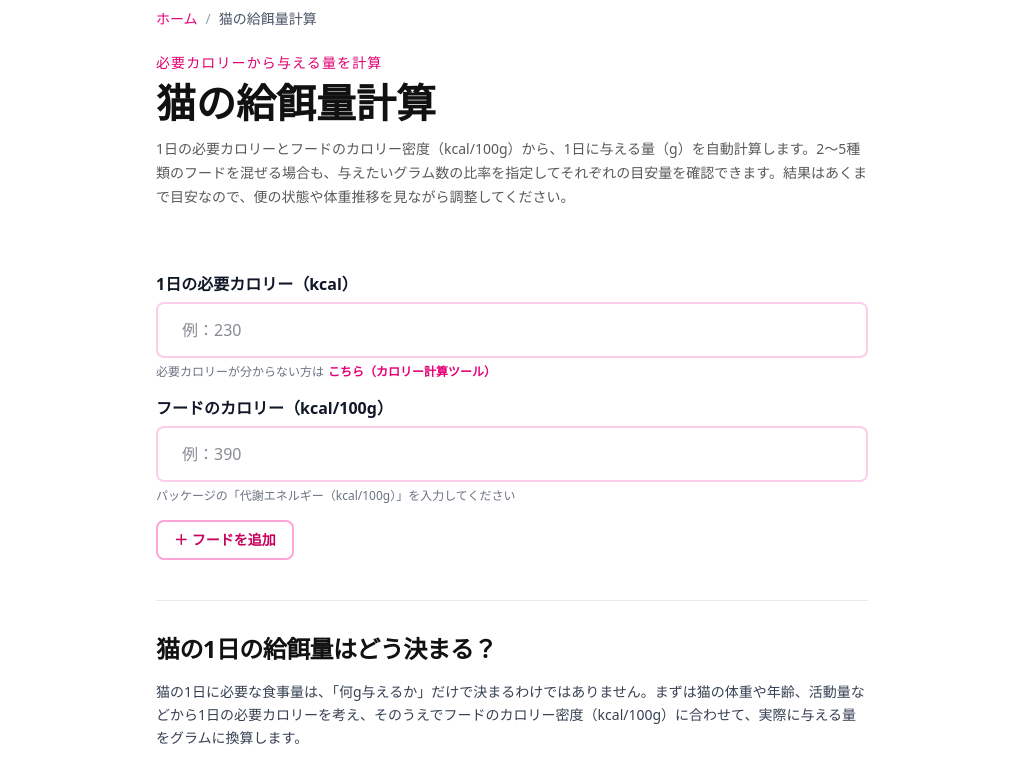
CatFeedingCalculator multi-food › 0以下の配分でエラーメッセージを表示する
The image size is (1024, 761).
Click the button "＋ フードを追加": point(225, 540) x1=156 y1=520 x2=294 y2=560
(page scrolled)
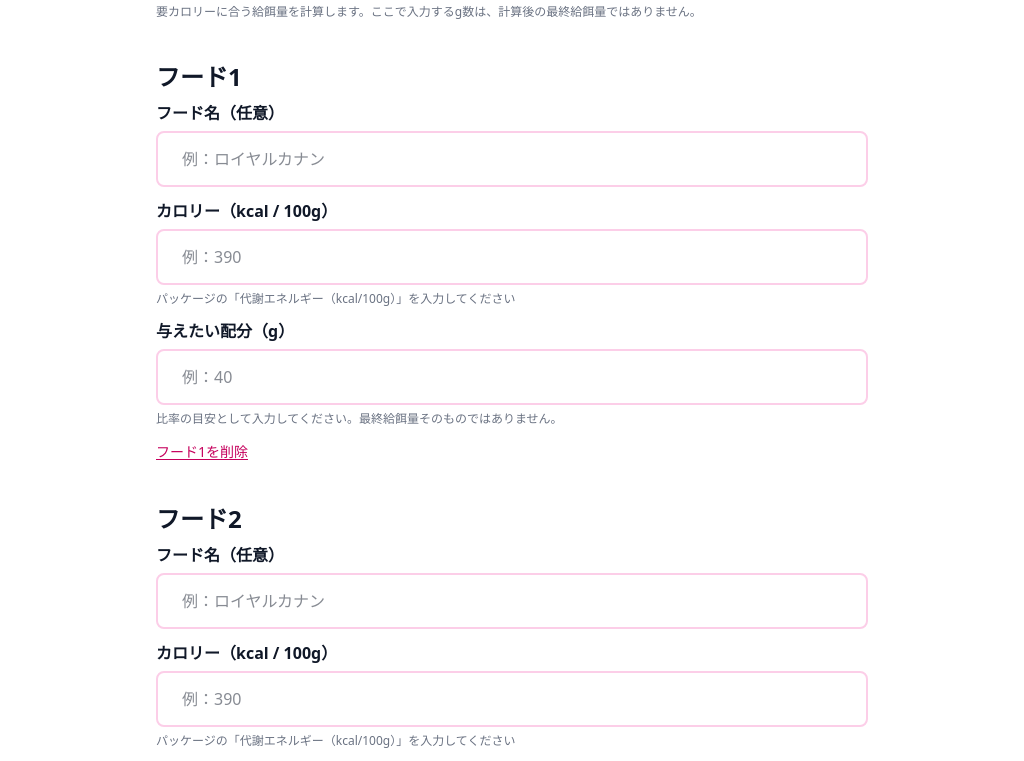
In the field labelled "与えたい配分（g）": point(512, 377) x1=156 y1=349 x2=868 y2=405, type "0"
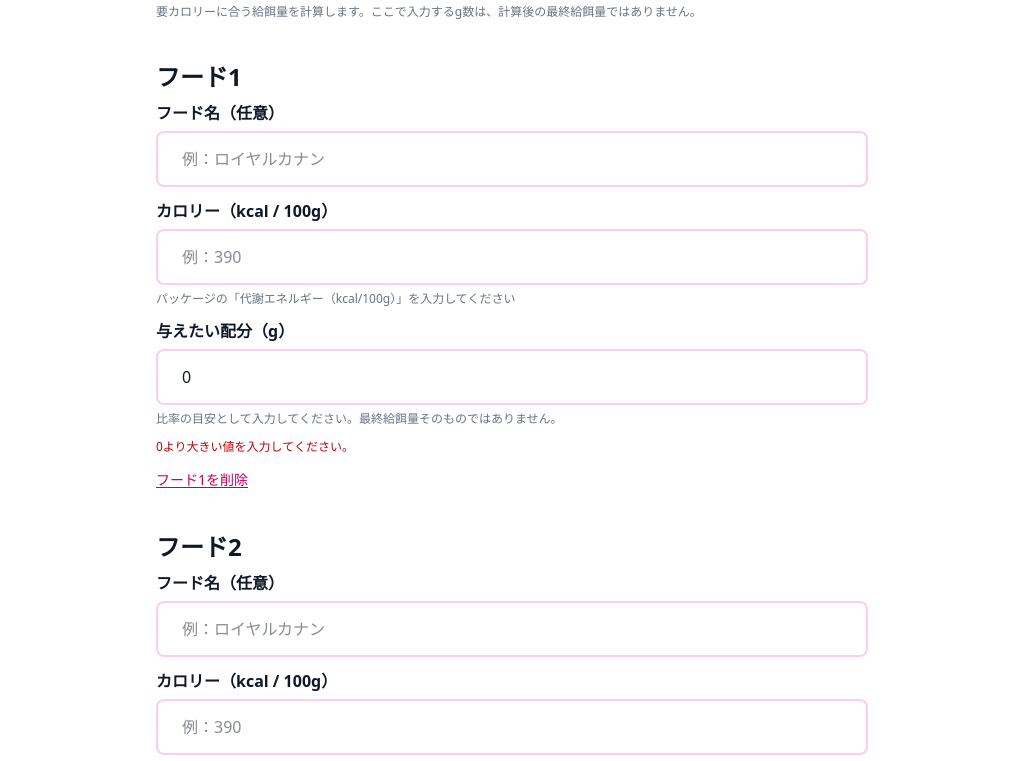
Expected: the text "0より大きい値を入力してください。" is shown, x1=156 y1=438 x2=354 y2=455
